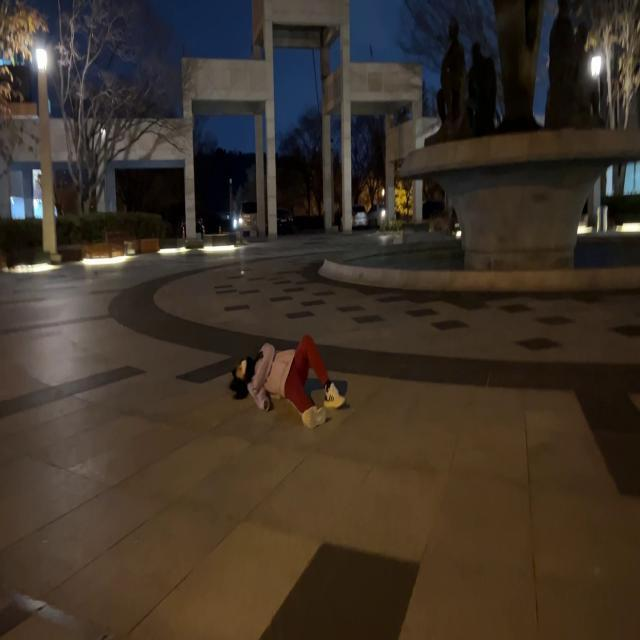Fall: (230, 336, 347, 430)
